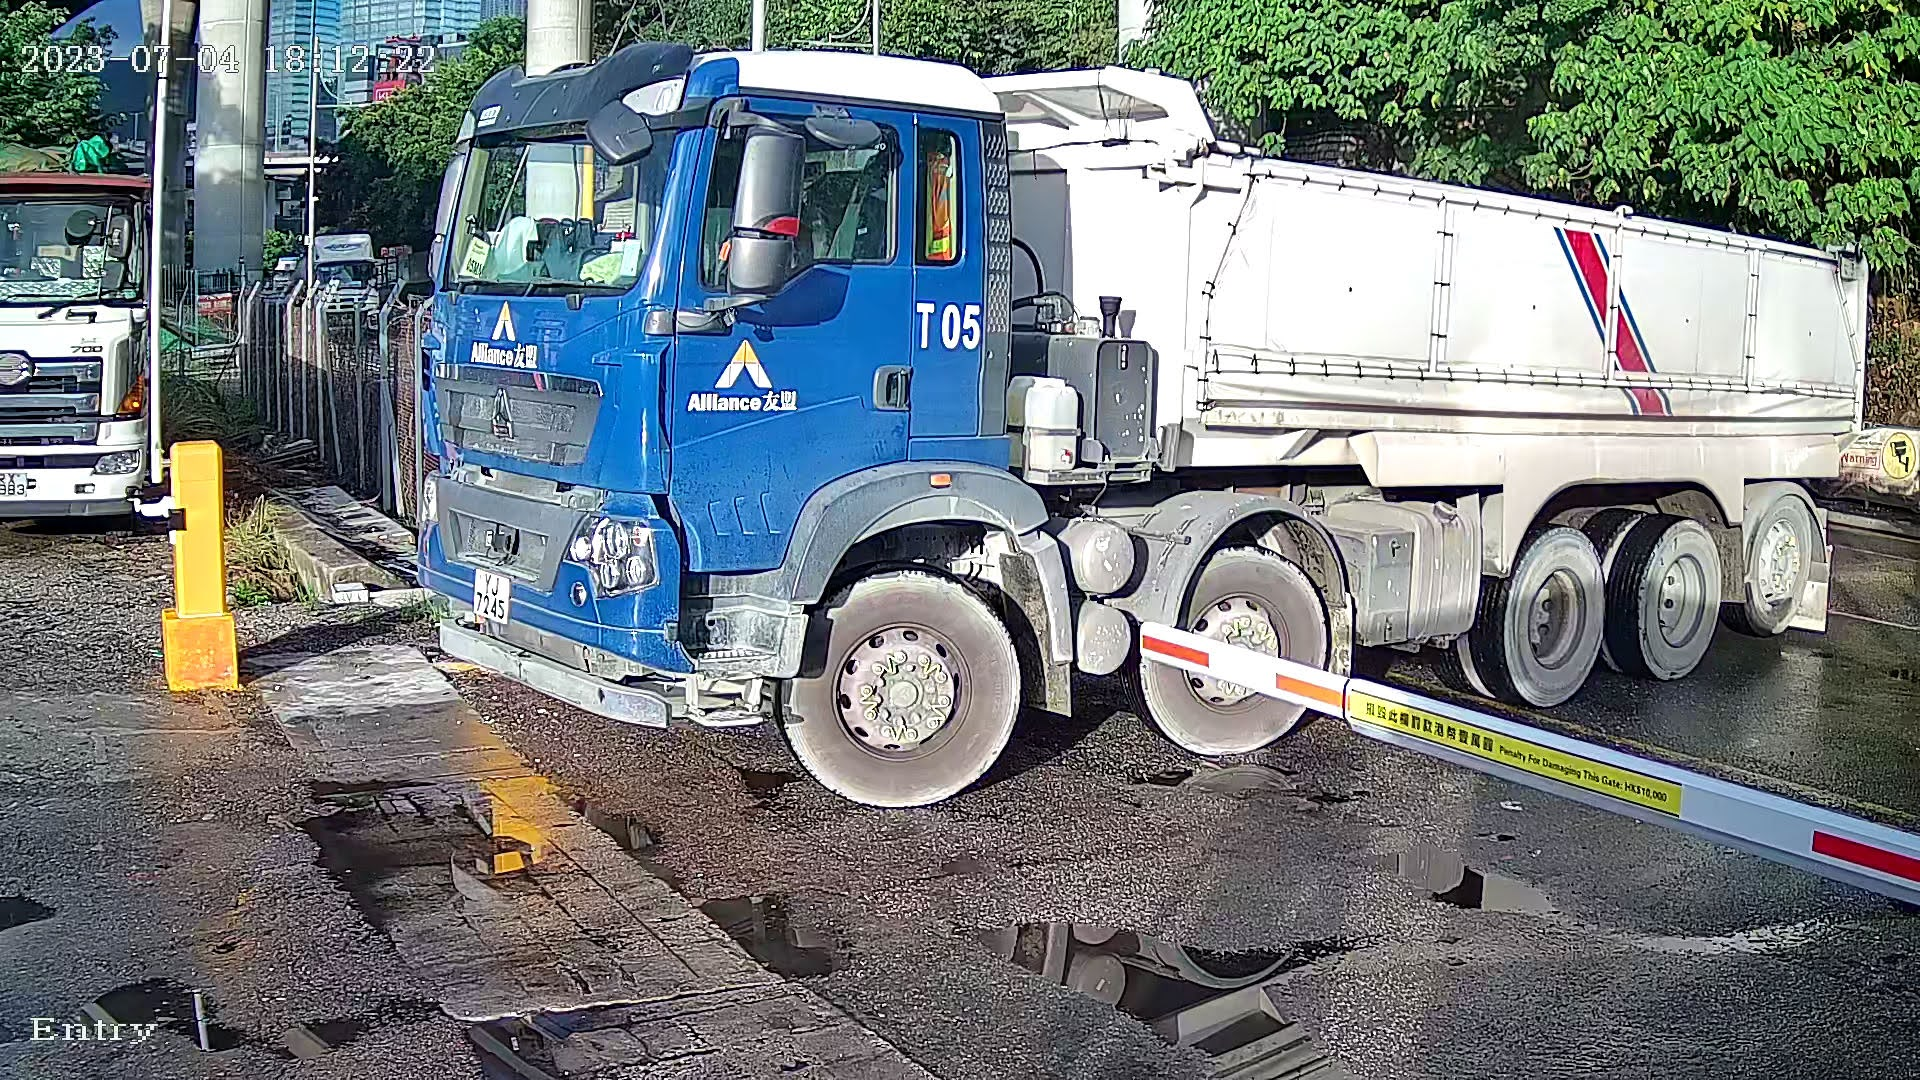truck_large: (388, 1, 1883, 831)
